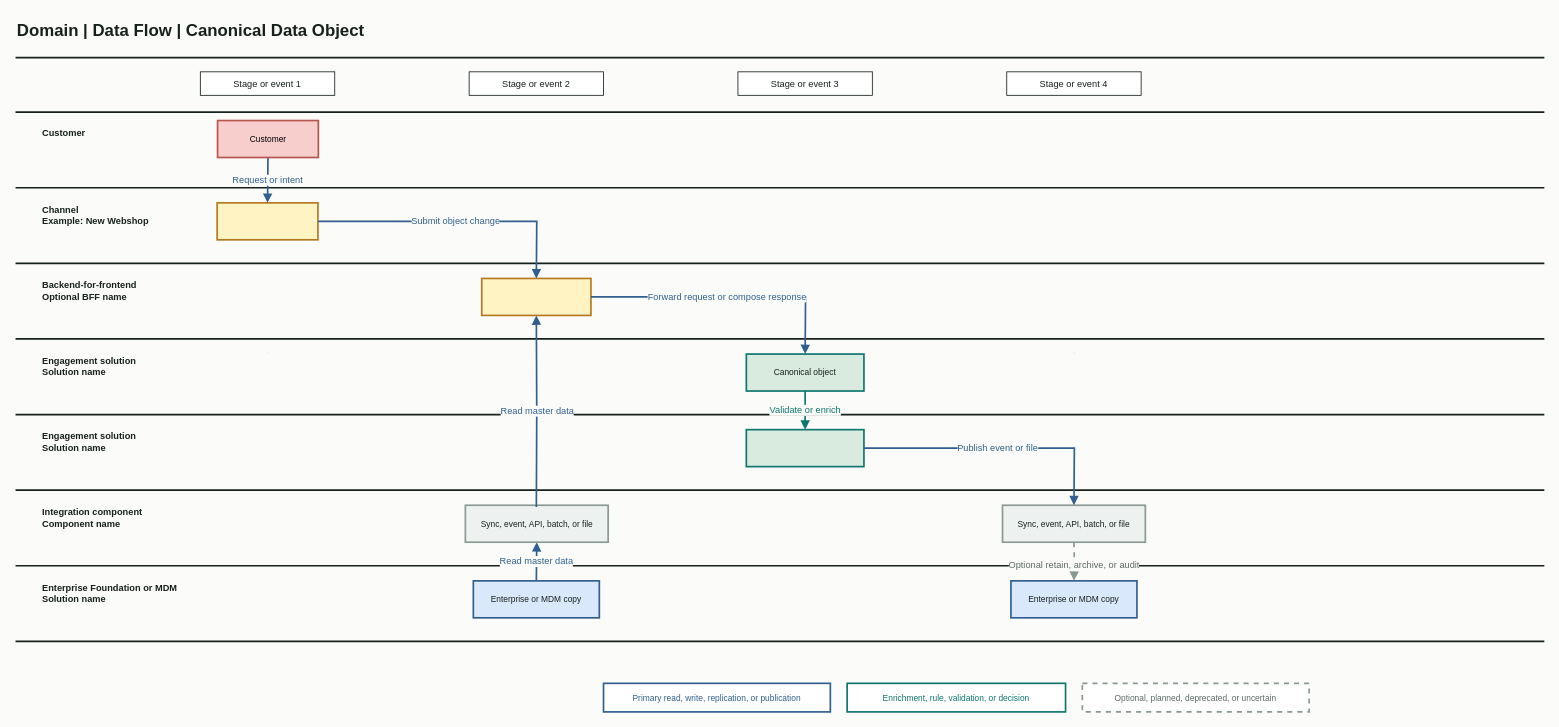
Some shapes in this 1559 by 727 pixel diagram are drawn without their labels. The shapes that lost their labels are listed below. From the top down, each one's centre as x and y in pixels, then its label:
point 267,221: Channel action
point 535,296: Optional BFF component
point 804,447: Validation or enrichment
